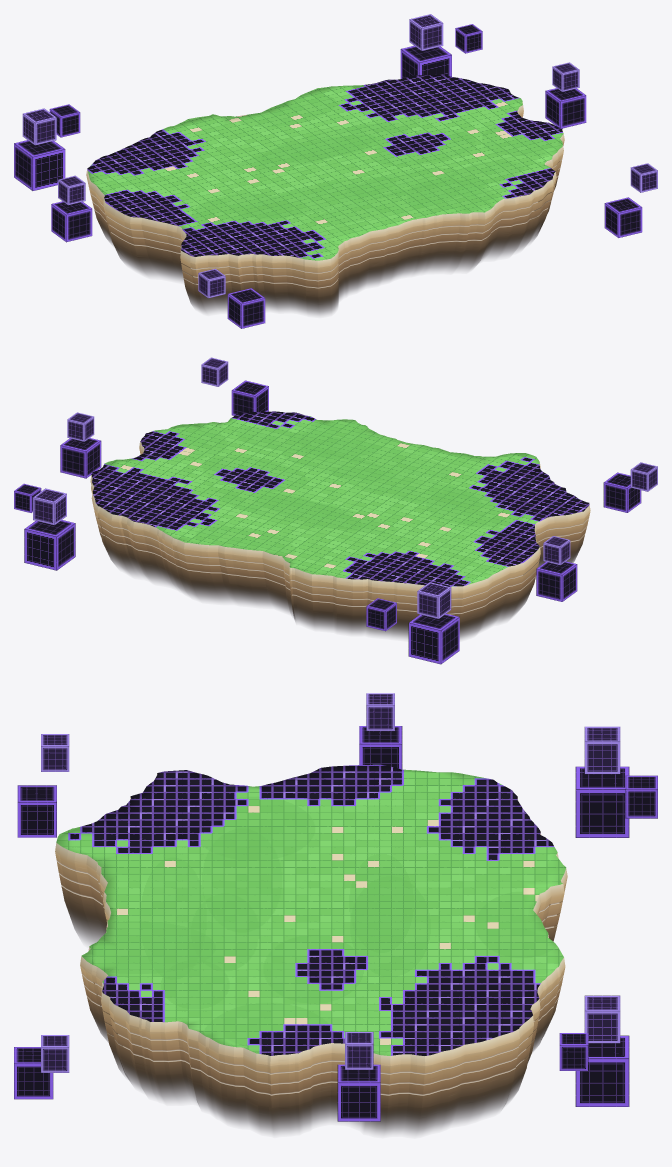
The model's file is digi_farm_3d.glb.
3 renders of one model, top to bottom at view 1: azimuth 30°, elevation 25°; view 2: azimuth 150°, elevation 25°; view 3: azimuth 270°, elevation 25°, orthographic. The views are drawn at different scales.
Visible parts, largest first — view 1: Island, VoxelFragments; view 2: Island, VoxelFragments; view 3: Island, VoxelFragments.
Boxes of the visible parts, left/top/right/bottom form: Island: left=86, top=74, right=564, bottom=314; VoxelFragments: left=14, top=14, right=657, bottom=328; Island: left=90, top=411, right=590, bottom=639; VoxelFragments: left=14, top=357, right=657, bottom=664; Island: left=55, top=764, right=567, bottom=1134; VoxelFragments: left=14, top=693, right=657, bottom=1121.
Bounding box in the file's own units: 2.36 × 0.49 × 1.8.
Materials: 4 (4 with a texture image).
